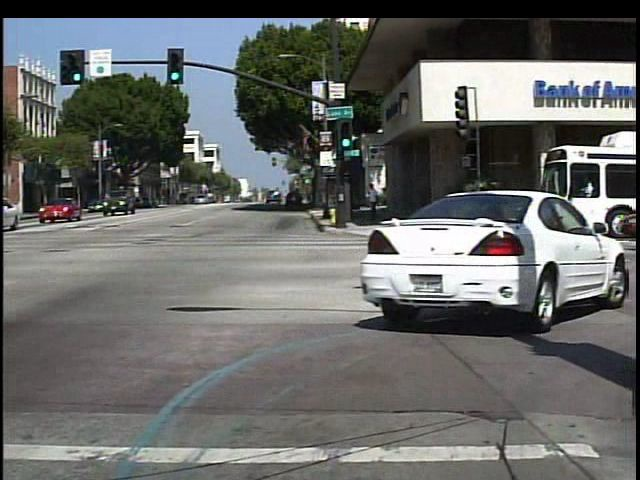person: (365, 183, 382, 214)
